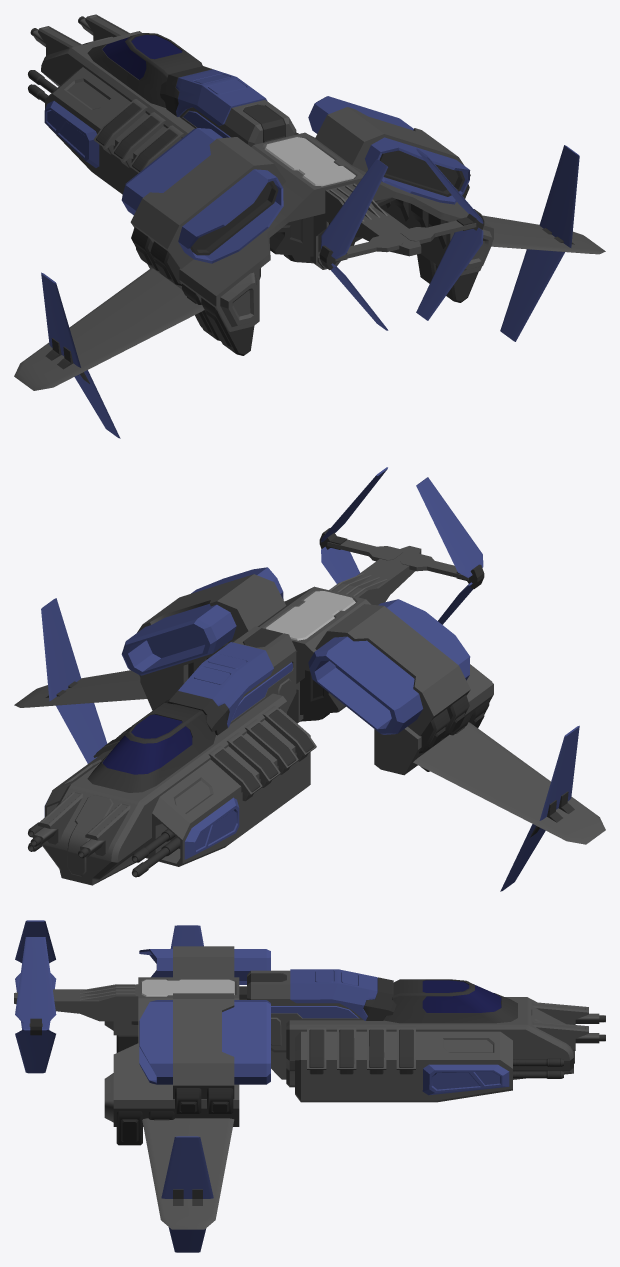
Rendered from fighter_1 (1).fbx.
3 renders of one model, top to bottom at view 1: azimuth 30°, elevation 25°; view 2: azimuth 150°, elevation 25°; view 3: azimuth 270°, elevation 25°, orthographic. The views are drawn at different scales.
Visible parts, largest first — view 1: polySurface125; view 2: polySurface125; view 3: polySurface125.
Part boxes in pixels (x1,y1,x2,y2): polySurface125: (14,14,605,438); polySurface125: (14,467,605,891); polySurface125: (14,920,605,1252).
Bounding box in the file's own units: 22.85 × 11.26 × 24.74.
